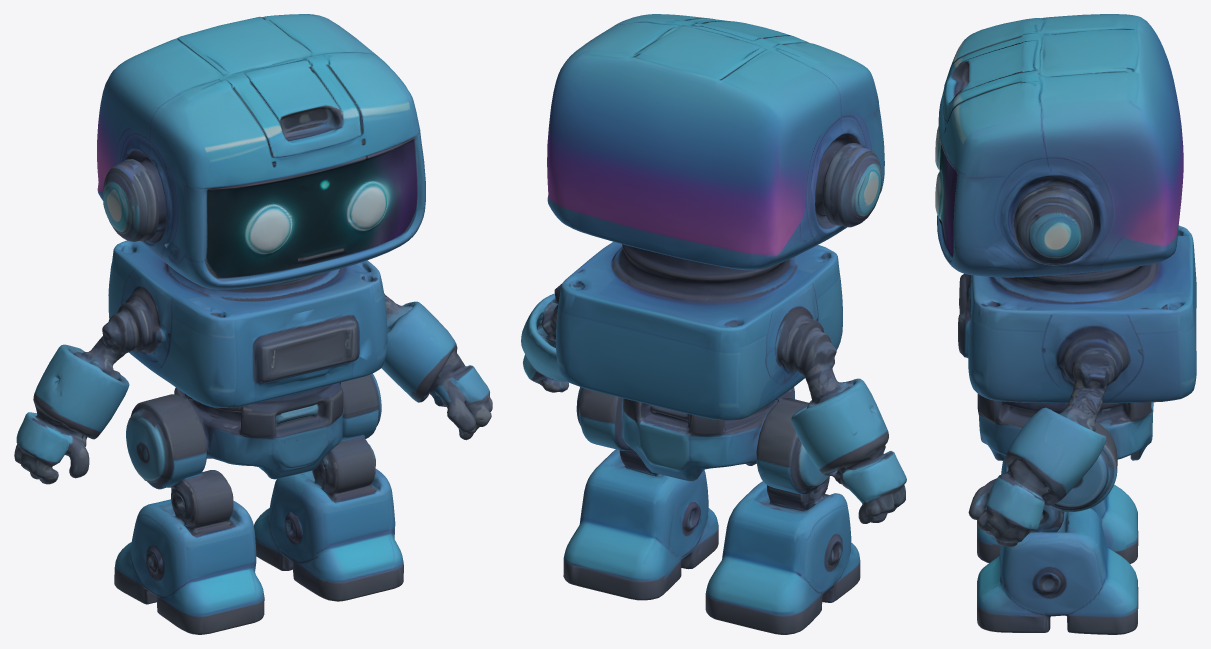
File: romantex_7.glb
3 views of the same model, side by side, from view 1: azimuth 30°, elevation 25°; view 2: azimuth 150°, elevation 25°; view 3: azimuth 270°, elevation 25° (orthographic). The views are drawn at different scales.
Visible parts, largest first — view 1: texture_v130_hdr_21w_pbr_dino_11w.001; view 2: texture_v130_hdr_21w_pbr_dino_11w.001; view 3: texture_v130_hdr_21w_pbr_dino_11w.001.
Boxes of the visible parts, x1,y1,x2,y2 form: texture_v130_hdr_21w_pbr_dino_11w.001: (14, 14, 492, 634); texture_v130_hdr_21w_pbr_dino_11w.001: (521, 14, 906, 634); texture_v130_hdr_21w_pbr_dino_11w.001: (935, 14, 1196, 634).
Size of the model in its own units: 1.64 by 2 by 0.8926.
1 material, 1 textured.
